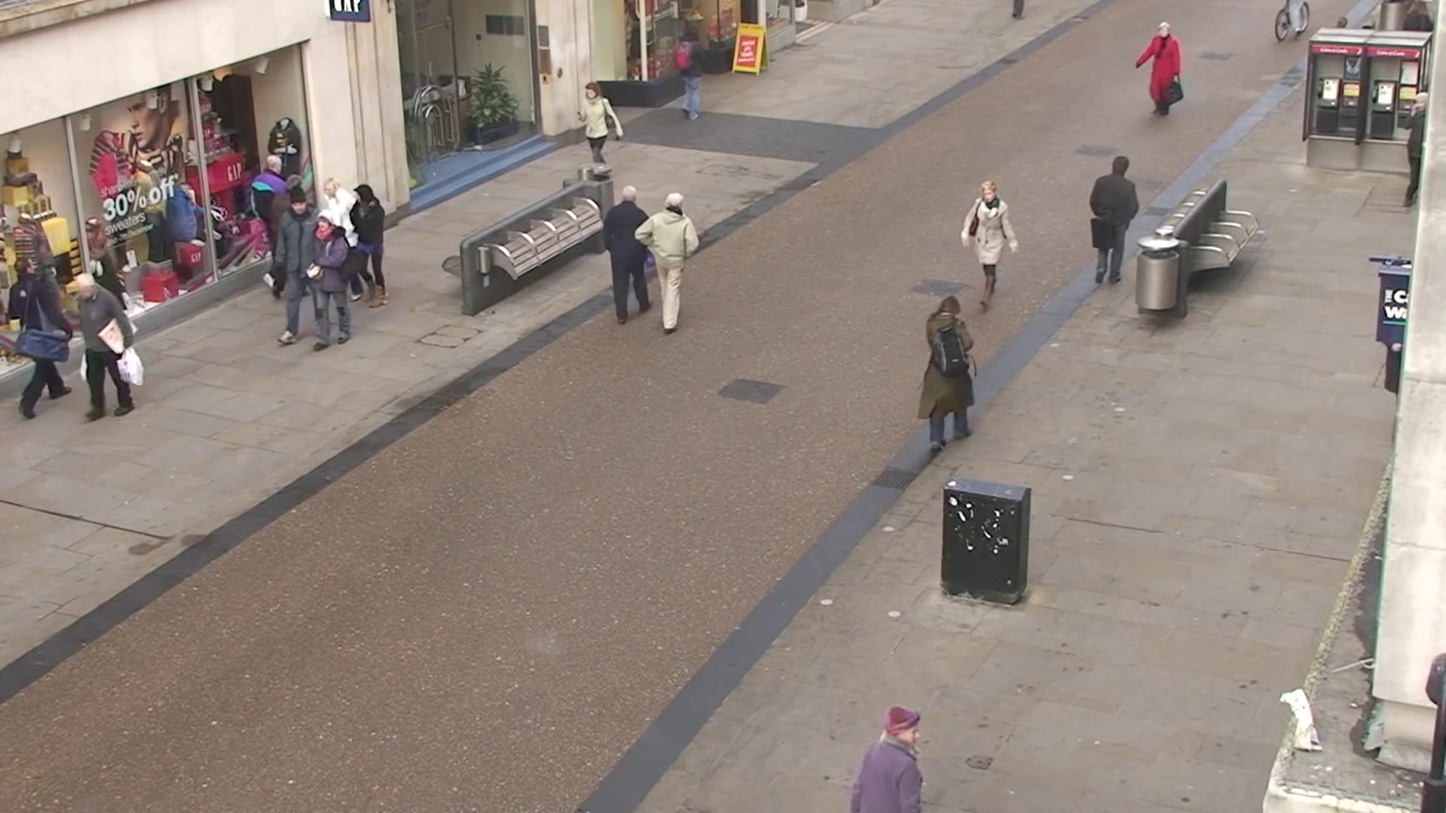person: (63, 257, 142, 420), (7, 255, 78, 419), (920, 292, 977, 449), (636, 190, 697, 336), (848, 705, 925, 813), (273, 184, 323, 346), (308, 197, 358, 346), (602, 182, 654, 324), (963, 181, 1017, 312), (1088, 154, 1141, 285), (348, 184, 389, 303), (1133, 22, 1183, 119), (581, 83, 622, 175)
